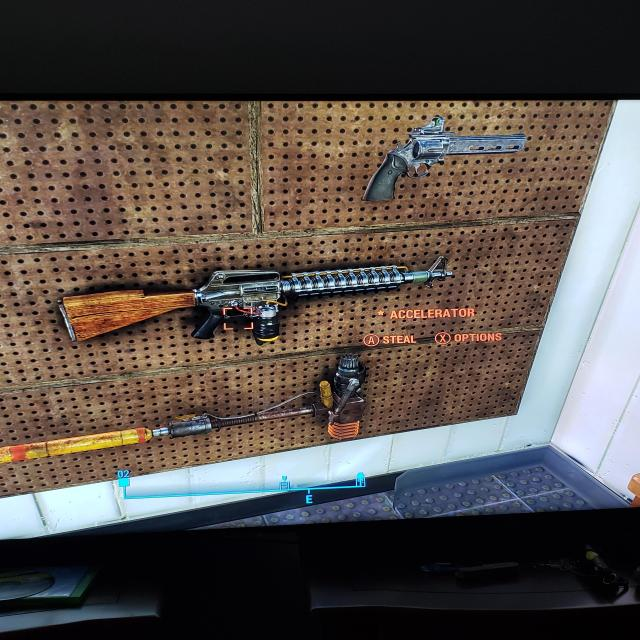HandGun: (365, 122, 528, 203)
Rifle: (77, 257, 453, 344)
